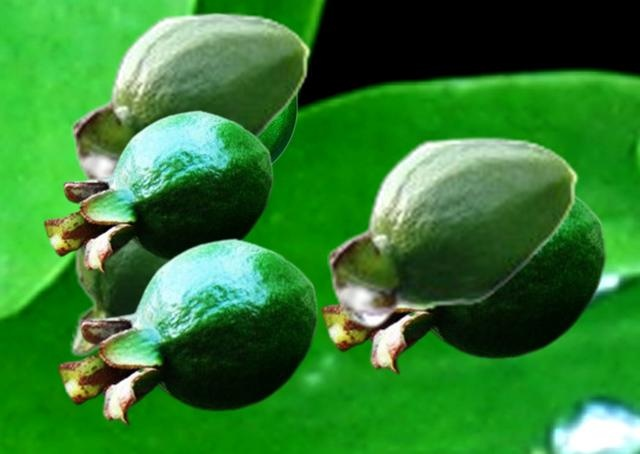guava: (320, 192, 606, 374), (57, 237, 318, 425), (327, 135, 578, 328), (71, 11, 310, 178), (43, 109, 273, 274), (70, 242, 165, 357), (260, 96, 297, 163)
